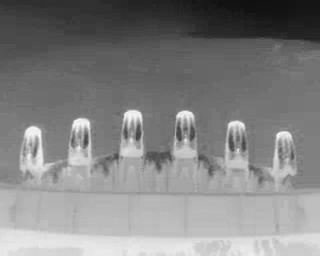claw: (119, 109, 145, 160), (68, 117, 93, 170), (226, 120, 250, 172), (174, 108, 197, 161), (273, 130, 298, 178), (20, 126, 45, 172)
